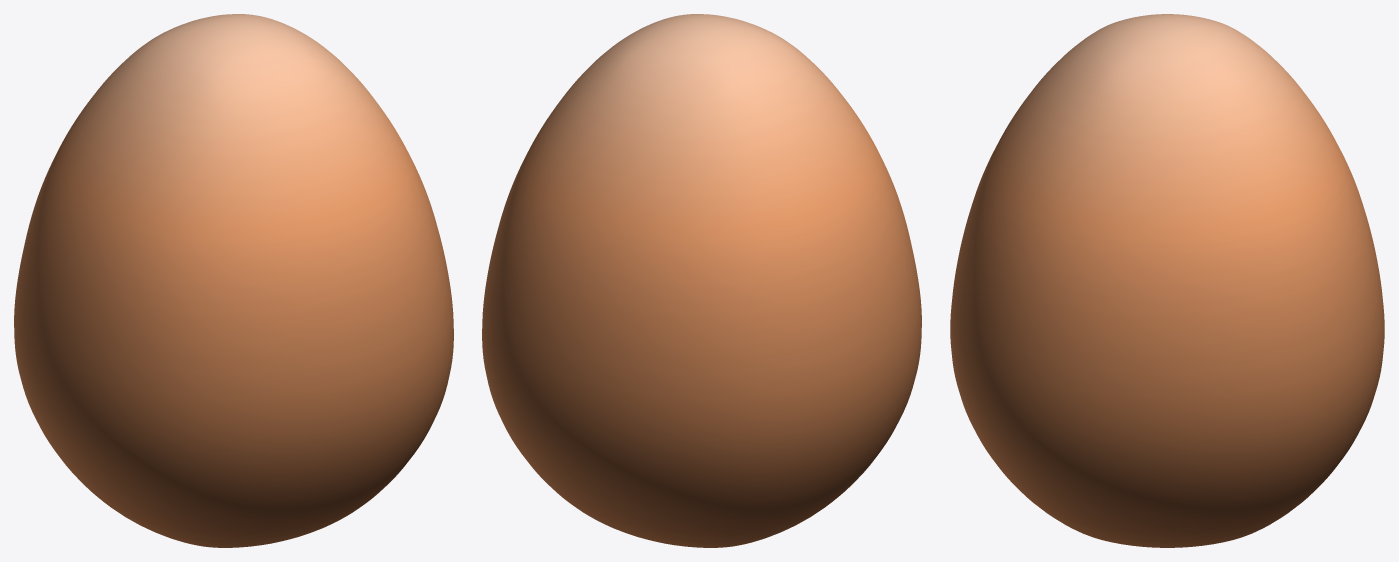
File: HH_Egg.fbx
The picture shows the model from 3 angles, left to right: view 1: azimuth 30°, elevation 25°; view 2: azimuth 150°, elevation 25°; view 3: azimuth 270°, elevation 25°; orthographic projection.
Parts seen in each view (by area): view 1: Egg; view 2: Egg; view 3: Egg.
Boxes of the visible parts, x1,y1,x2,y2 form: Egg: (14, 14, 453, 547); Egg: (482, 14, 921, 547); Egg: (950, 14, 1384, 547).
Size of the model in its own units: 38.97 by 49.47 by 38.97.
1 material, 1 textured.
